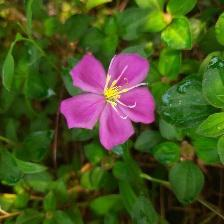malabar melastome: (59, 51, 158, 152)
